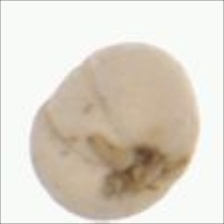L5: (39, 56, 125, 164), (87, 133, 193, 199)
L6: (27, 41, 202, 221)
